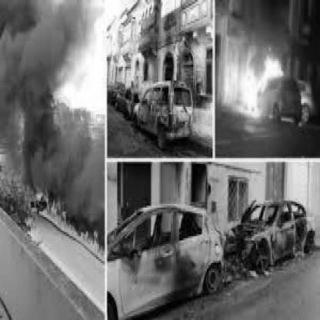Fire: (24, 177, 102, 263)
